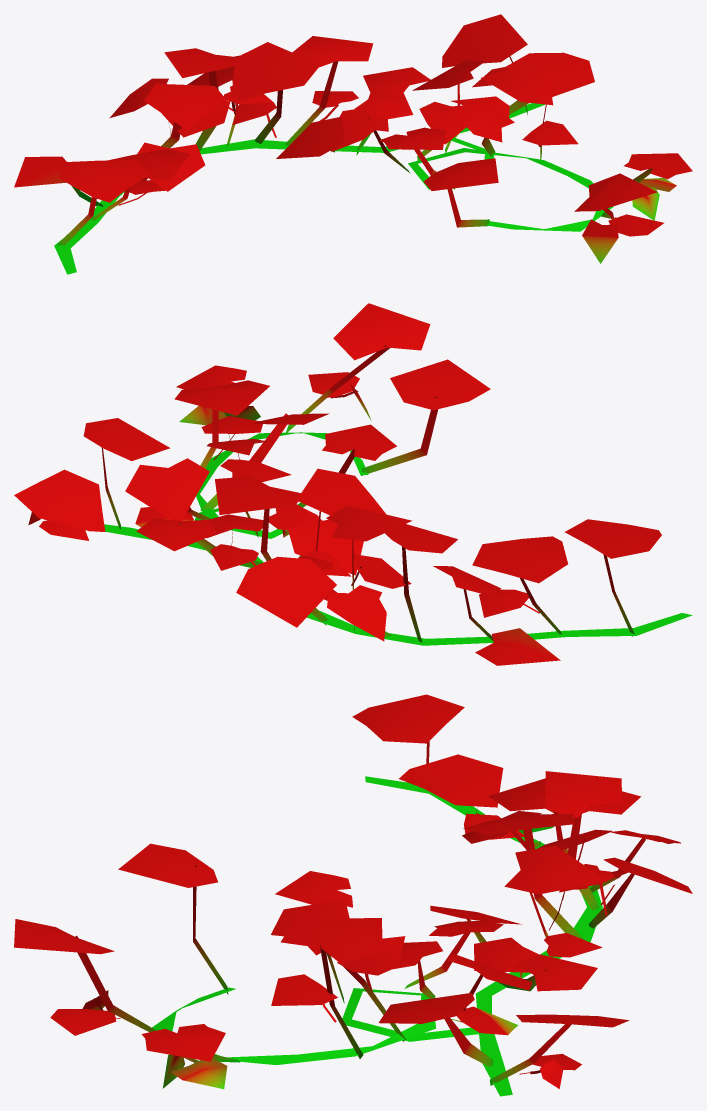
The model's file is Var6_LOD3.fbx.
3 renders of one model, top to bottom at view 1: azimuth 30°, elevation 25°; view 2: azimuth 150°, elevation 25°; view 3: azimuth 270°, elevation 25°, orthographic. The views are drawn at different scales.
Parts seen in each view (by area): view 1: _n6za_Var6_LOD3; view 2: _n6za_Var6_LOD3; view 3: _n6za_Var6_LOD3.
Part boxes in pixels (x1=…): _n6za_Var6_LOD3: x1=14, y1=14, x2=692, y2=274; _n6za_Var6_LOD3: x1=14, y1=303, x2=692, y2=665; _n6za_Var6_LOD3: x1=14, y1=694, x2=692, y2=1096.
Bounding box in the file's own units: 63.24 × 12.09 × 55.45.
